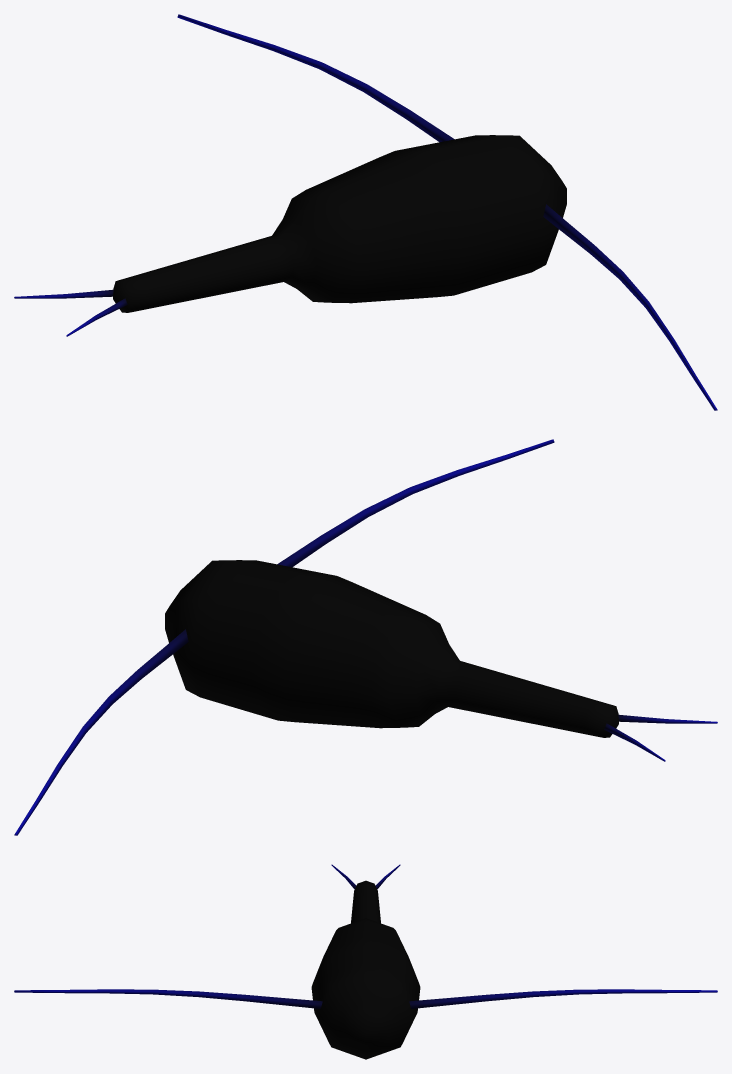
File: micro_calanoid.glb
3 views of the same model, one above another, from view 1: azimuth 30°, elevation 25°; view 2: azimuth 150°, elevation 25°; view 3: azimuth 270°, elevation 25° (orthographic). The views are drawn at different scales.
Parts seen in each view (by area): view 1: Body, Antennae, Legs; view 2: Body, Antennae, Legs; view 3: Body, Antennae.
Part boxes in pixels (x1,y1,x2,y2): Body: (113,135,566,312); Antennae: (177,14,717,410); Legs: (14,289,127,336); Body: (165,560,618,737); Antennae: (14,439,554,835); Legs: (604,714,717,761); Body: (311,880,420,1059); Antennae: (14,989,717,1008).
Bounding box in the file's own units: 1.17 × 0.3037 × 2.06.
Materials: 1 (1 with a texture image).
